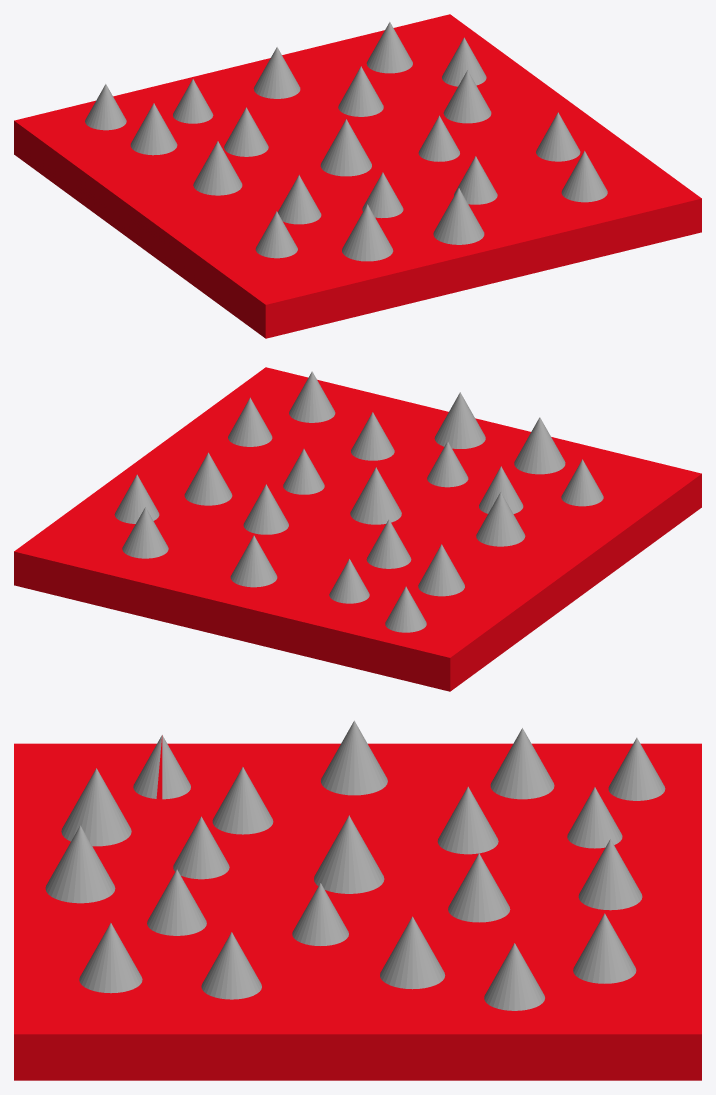
Rendered from diken.fbx.
3 renders of one model, top to bottom at view 1: azimuth 30°, elevation 25°; view 2: azimuth 150°, elevation 25°; view 3: azimuth 270°, elevation 25°, orthographic. The views are drawn at different scales.
Visible parts, largest first — view 1: Plane; view 2: Plane; view 3: Plane.
Part boxes in pixels (bbox=[...]): Plane: bbox=[14, 14, 701, 338]; Plane: bbox=[14, 367, 701, 691]; Plane: bbox=[14, 720, 701, 1080].
Size of the model in its own units: 889 by 172 by 889.
